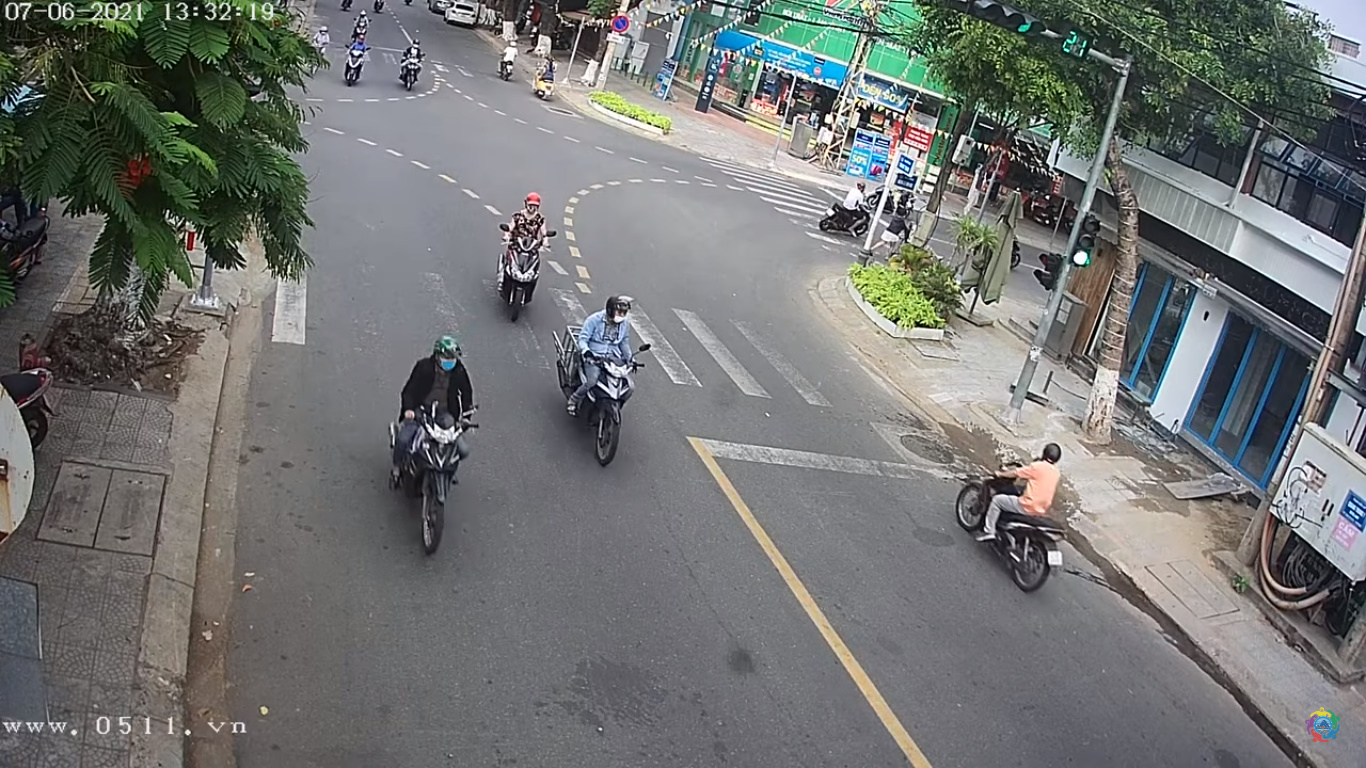motorbike: (384, 337, 484, 549), (960, 444, 1079, 587), (555, 297, 651, 457), (485, 192, 556, 312)
